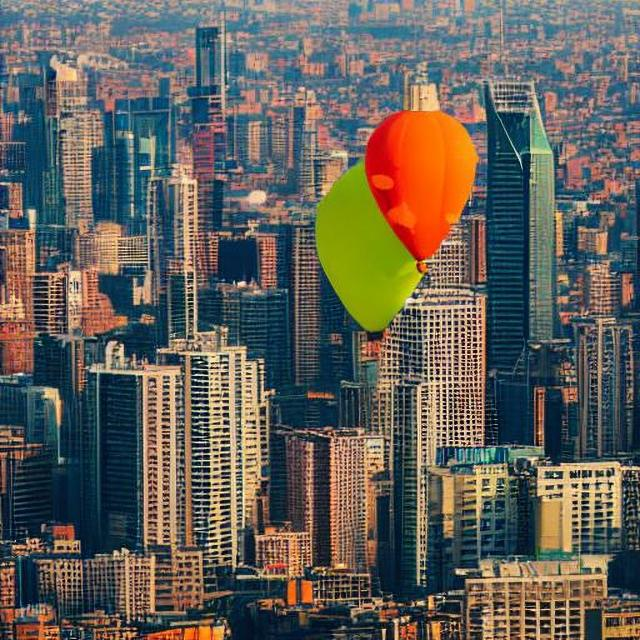balloon: (309, 117, 479, 332)
